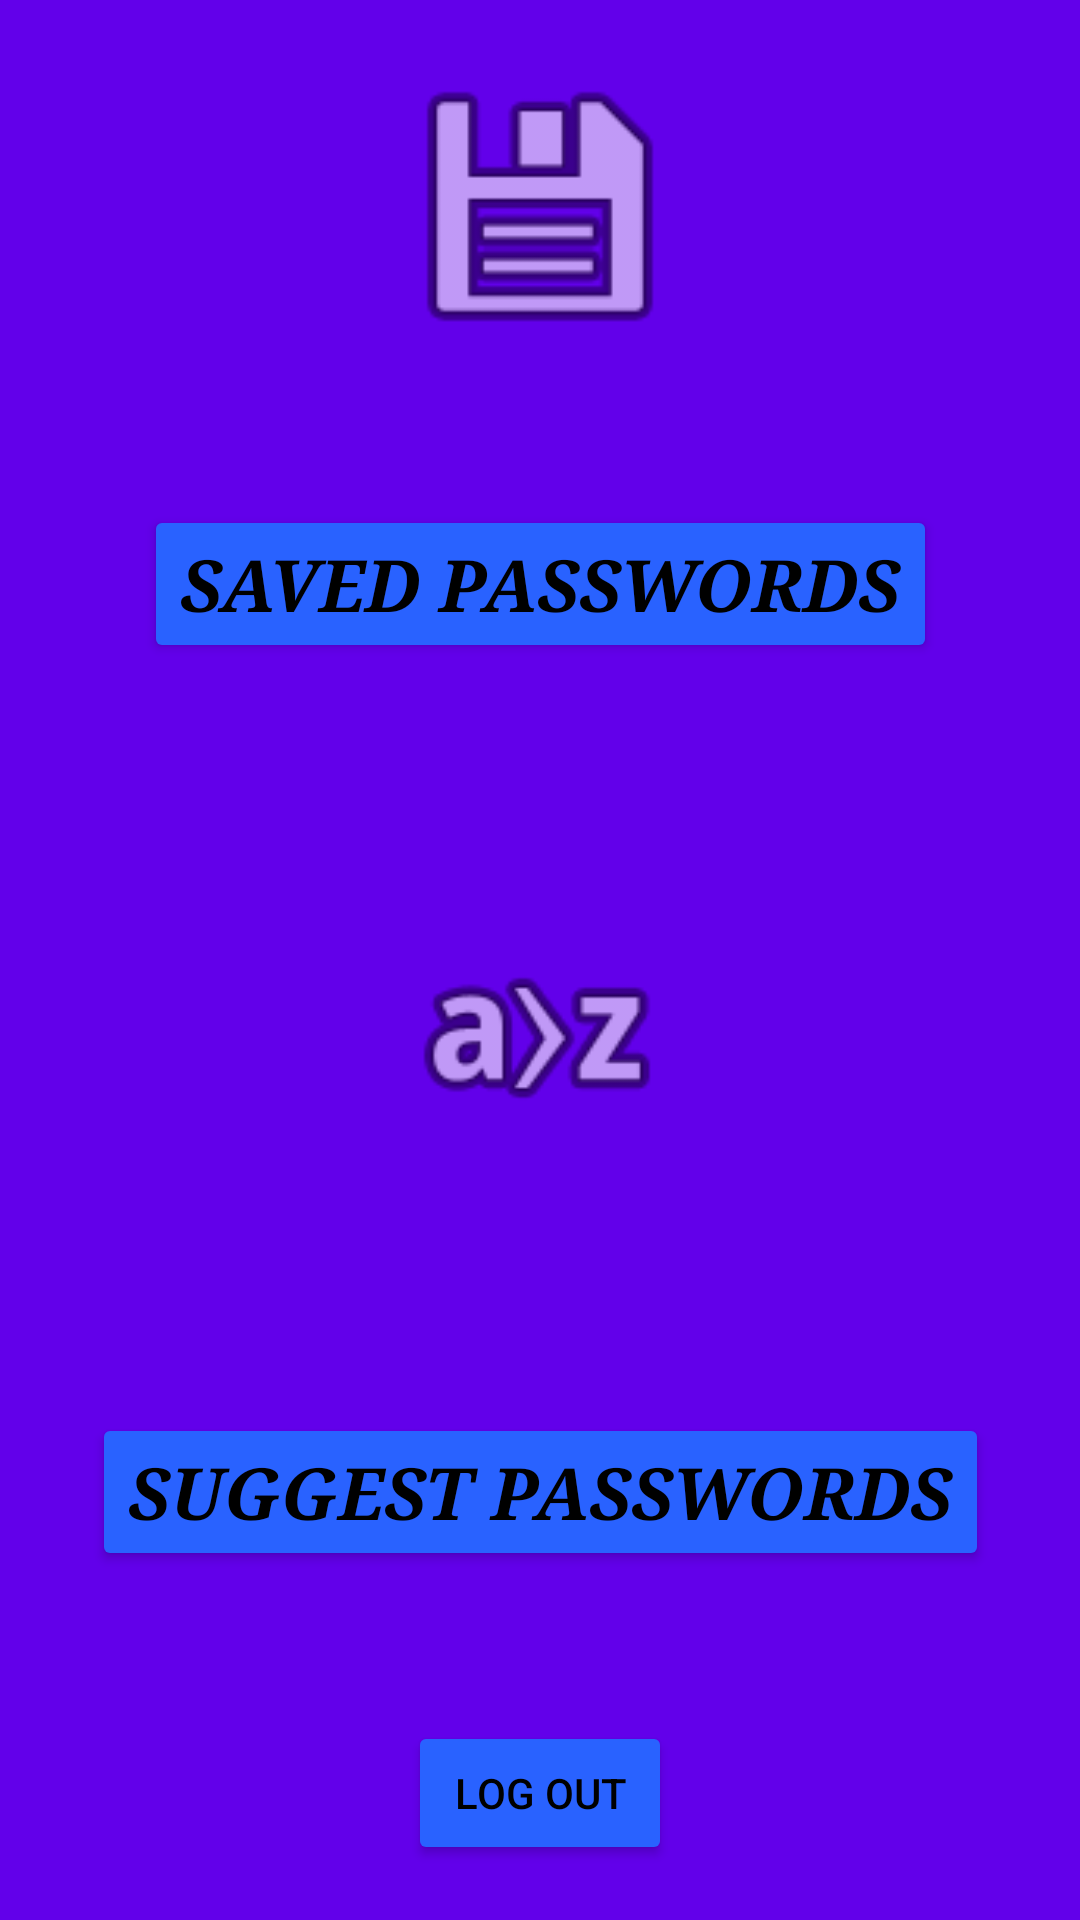

Screen size 1080px×1920px. Icon name, then its box in pixels as (x1, y1, x2, y2):
sort alphabetically: (424, 978, 650, 1098)
